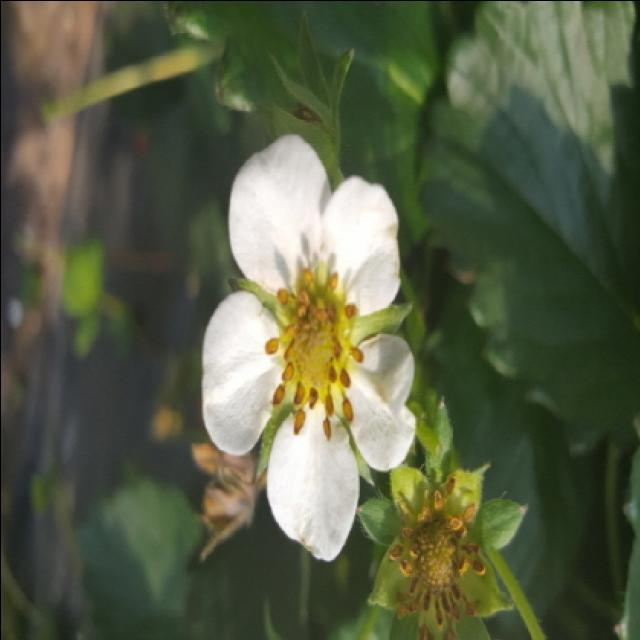Blossom Blight: (262, 260, 368, 445), (383, 470, 491, 640)
